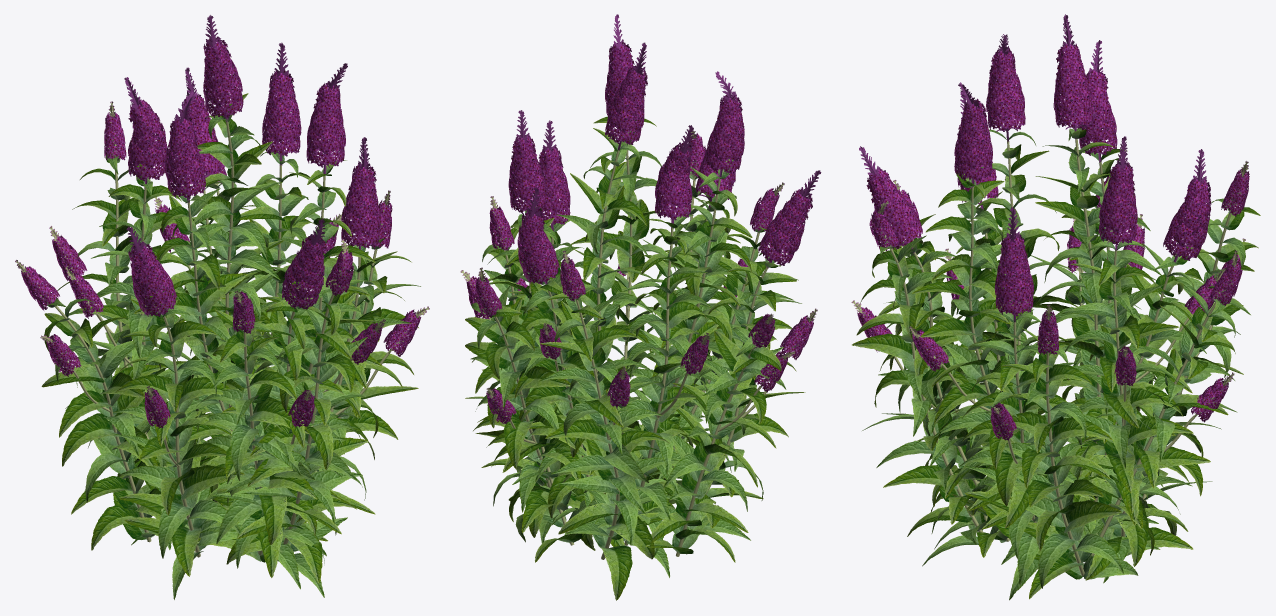
3 renders of one model, left to right at view 1: azimuth 30°, elevation 25°; view 2: azimuth 150°, elevation 25°; view 3: azimuth 270°, elevation 25°, orthographic. The views are drawn at different scales.
Bounding box in the file's own units: 0.9619 × 1.41 × 0.9583.
1 material, 1 textured.
